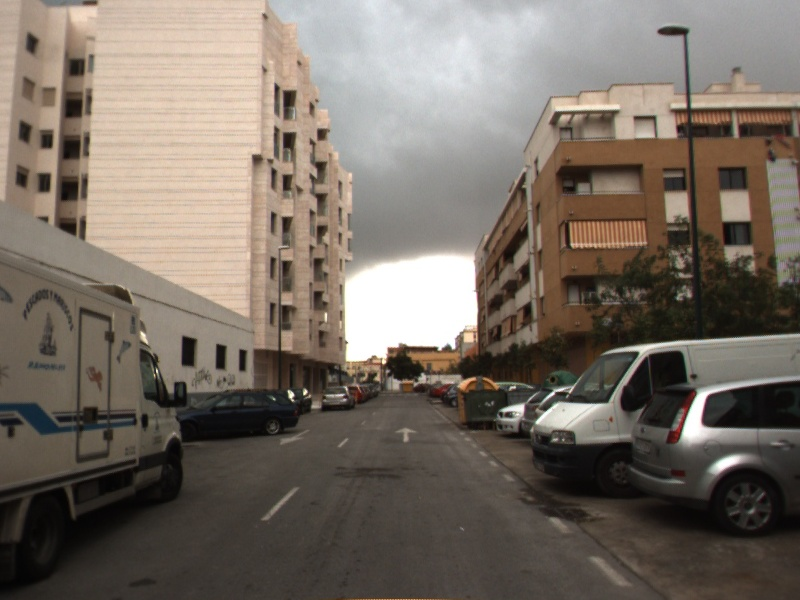STRAIGHT: (392, 424, 421, 445)
